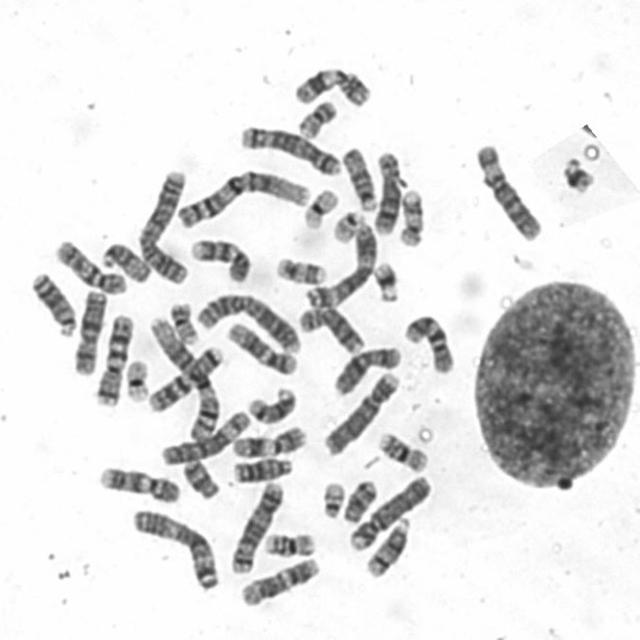A1: (146, 316, 221, 444), (174, 170, 312, 233)
A2: (194, 291, 303, 356), (137, 165, 193, 287)
A3: (130, 508, 220, 590), (304, 222, 378, 313)
B4: (320, 368, 402, 460), (349, 472, 433, 553)
B5: (229, 478, 285, 575), (239, 126, 343, 178)
C10: (54, 238, 128, 296), (400, 312, 459, 376)
C11: (290, 68, 373, 108), (231, 426, 310, 459)
C12: (238, 555, 323, 608), (225, 320, 300, 377)
C6: (473, 141, 544, 248), (159, 407, 253, 468)
C7: (146, 344, 226, 414), (94, 312, 135, 408)
C8: (297, 304, 367, 356), (373, 149, 402, 237)
C9: (98, 464, 183, 504), (189, 238, 253, 284)
D13: (31, 273, 78, 337), (232, 456, 295, 487)
D14: (365, 516, 412, 580), (244, 384, 299, 426)
D15: (338, 145, 378, 212), (102, 241, 154, 285)
E16: (373, 430, 430, 475), (264, 530, 319, 562)
E17: (397, 188, 425, 251), (273, 256, 329, 284)
E18: (181, 458, 223, 502), (340, 478, 380, 524)
F19: (302, 187, 339, 232), (126, 358, 150, 404)
F20: (296, 98, 338, 140), (169, 300, 200, 346)
G21: (556, 156, 600, 198), (372, 258, 400, 306)
G22: (320, 478, 349, 522), (331, 211, 367, 246)
X: (331, 344, 405, 396), (71, 289, 107, 376)
